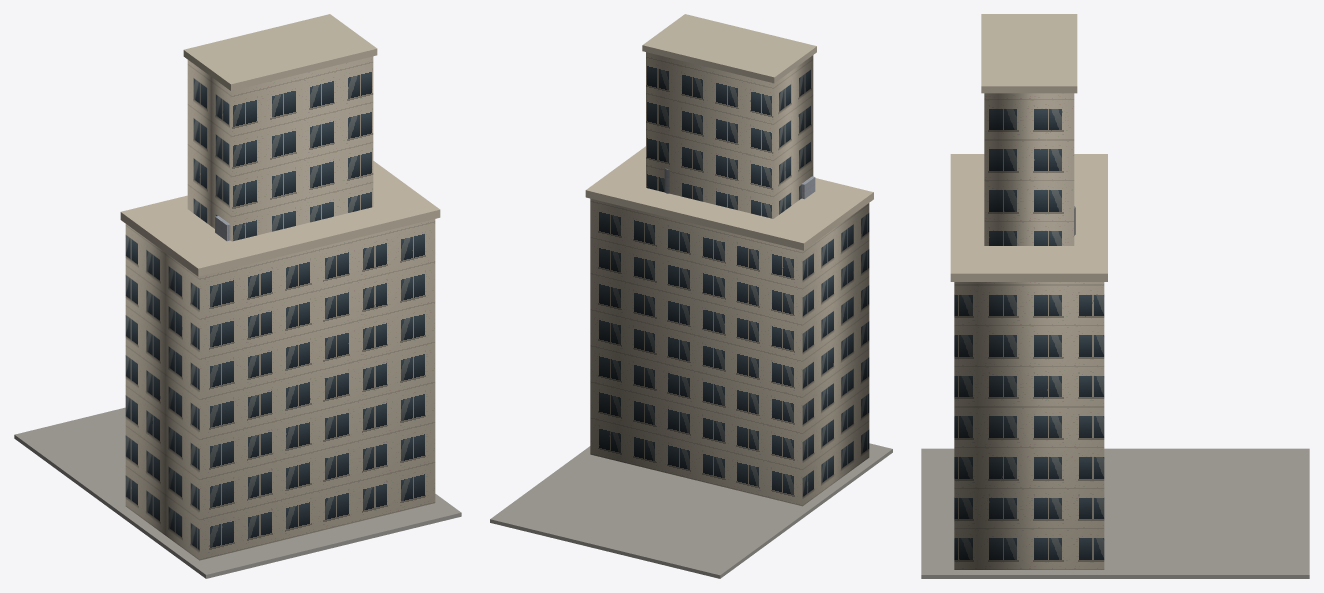
The model's file is predio_orla.glb.
The picture shows the model from 3 angles, left to right: view 1: azimuth 30°, elevation 25°; view 2: azimuth 150°, elevation 25°; view 3: azimuth 270°, elevation 25°; orthographic projection. The views are drawn at different scales.
Visible parts, largest first — view 1: predio_orla, predio_orla_liso; view 2: predio_orla, predio_orla_liso; view 3: predio_orla, predio_orla_liso.
Part boxes in pixels (x1,y1,x2,y2): predio_orla: (125, 56, 435, 560); predio_orla_liso: (14, 14, 461, 578); predio_orla: (590, 52, 869, 506); predio_orla_liso: (490, 14, 892, 578); predio_orla: (954, 93, 1104, 569); predio_orla_liso: (921, 14, 1309, 578).
Size of the model in its own units: 20 by 34.39 by 26.
3 materials, 2 textured.
